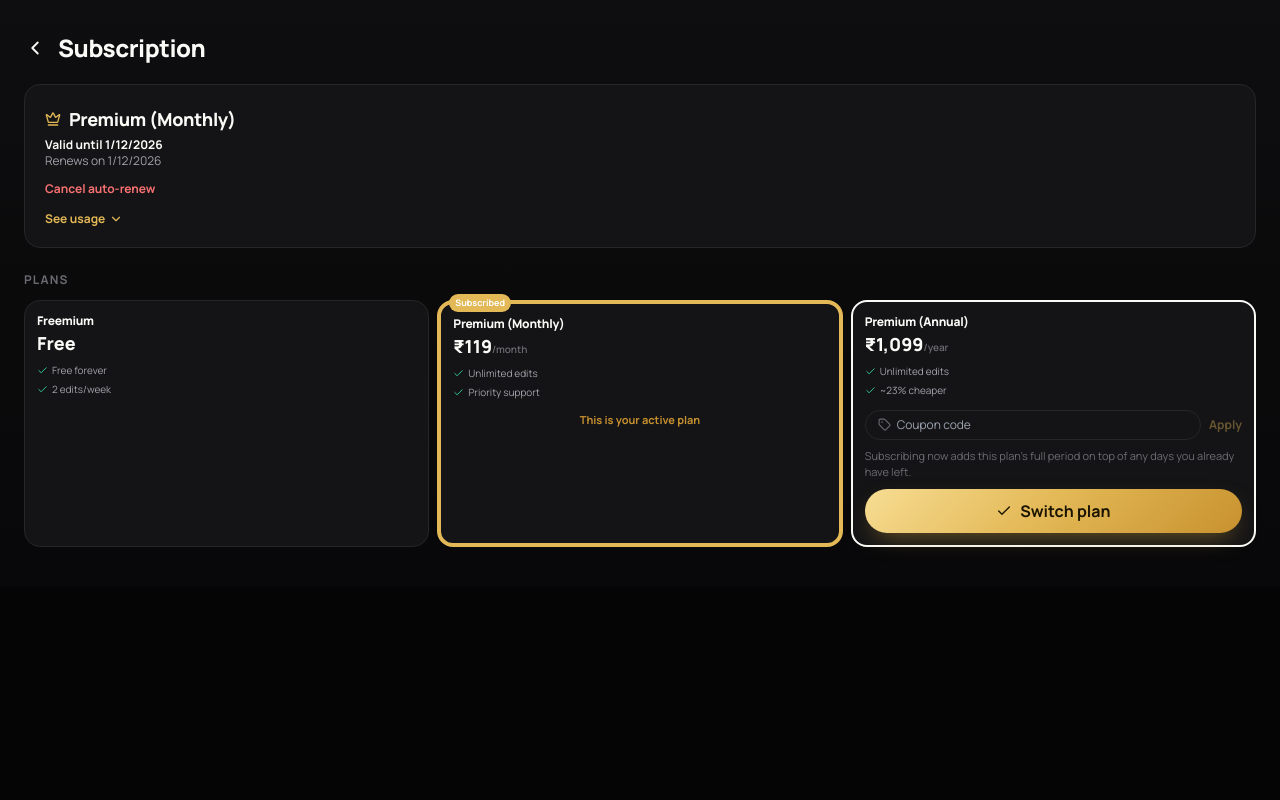
Test: Subscription screen › dismisses the cancel confirmation without cancelling
Click the button with test id "subscription-cancel-btn" at (100, 189), box [45,181,155,197]
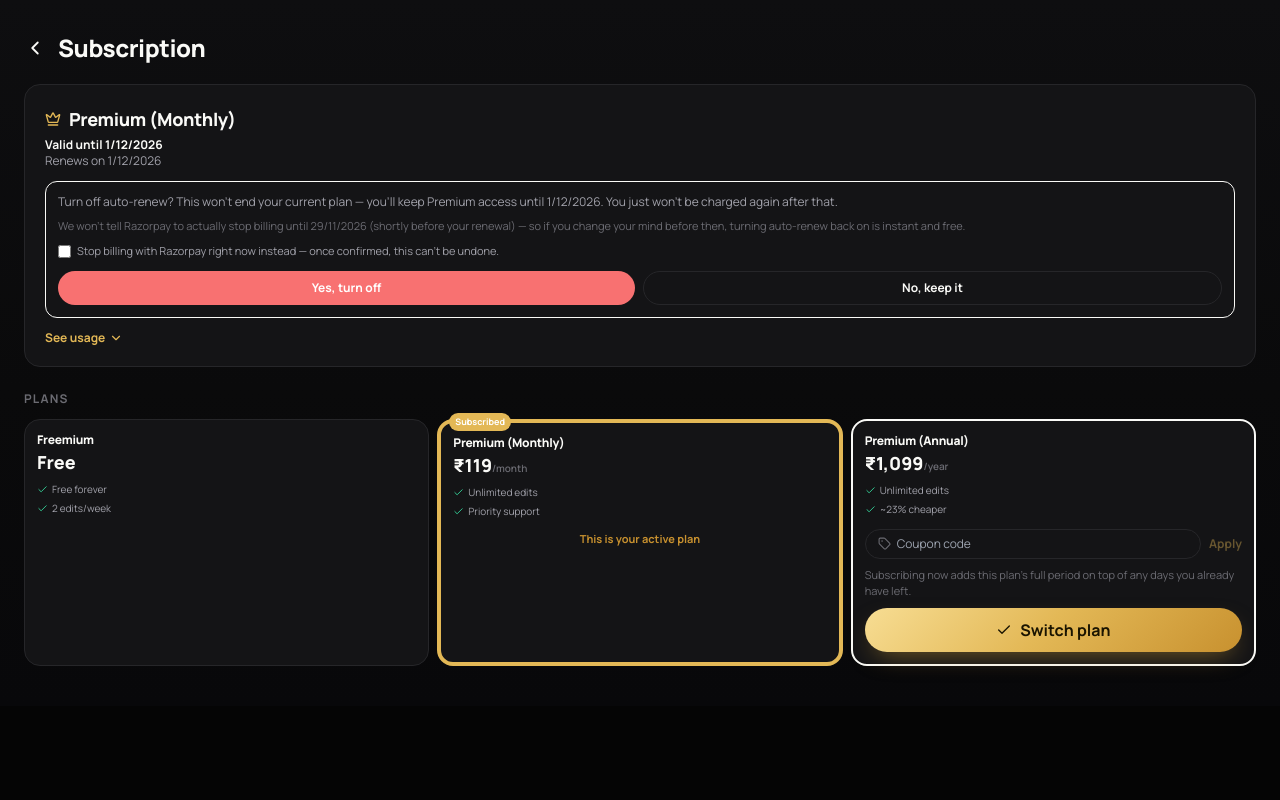
Click the button with test id "subscription-cancel-dismiss-btn" at (932, 288), box [643,271,1222,305]
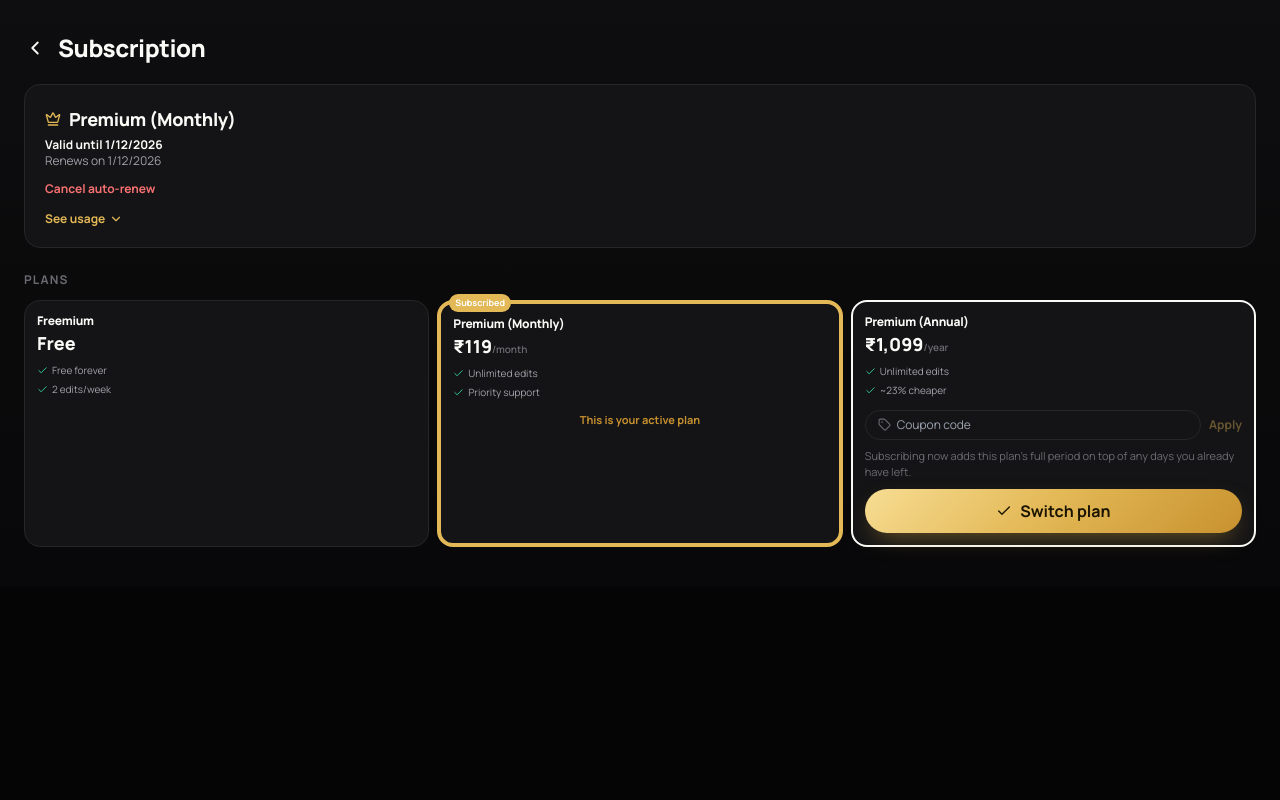
Expected: the button with test id "subscription-cancel-btn" is shown, [45,181,155,197]
